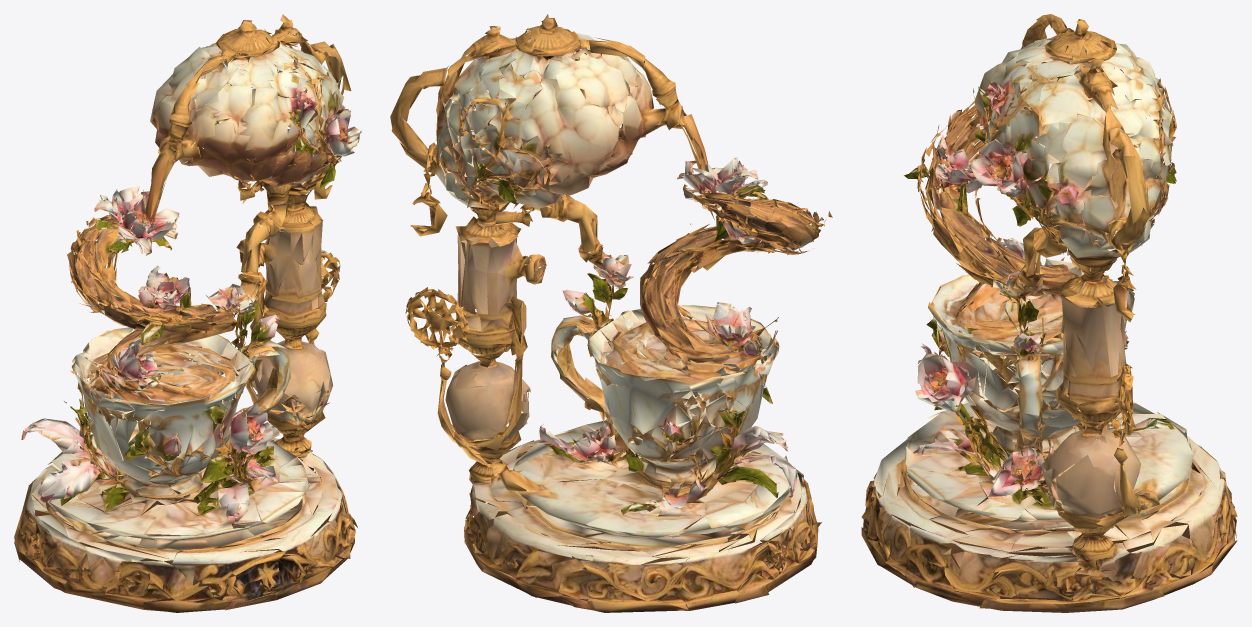
The model's file is Enchanted_Blossom_Tea_town.glb.
3 renders of one model, left to right at view 1: azimuth 30°, elevation 25°; view 2: azimuth 150°, elevation 25°; view 3: azimuth 270°, elevation 25°, orthographic. The views are drawn at different scales.
Parts seen in each view (by area): view 1: Enchanted_Blossom_Tea; view 2: Enchanted_Blossom_Tea; view 3: Enchanted_Blossom_Tea.
Part boxes in pixels (x1,y1,x2,y2): Enchanted_Blossom_Tea: (14,14,361,612); Enchanted_Blossom_Tea: (390,14,832,612); Enchanted_Blossom_Tea: (861,14,1237,612).
Size of the model in its own units: 1.43 by 1.91 by 1.17.
Materials: 1 (1 with a texture image).
